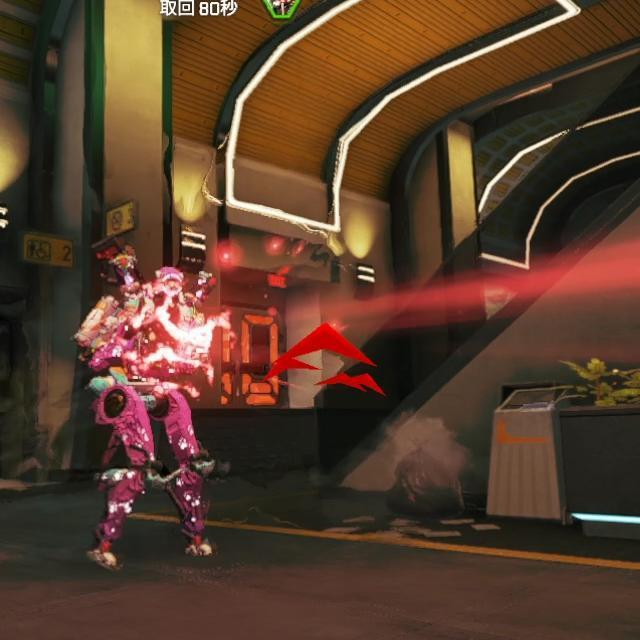avatar: (75, 266, 221, 572)
